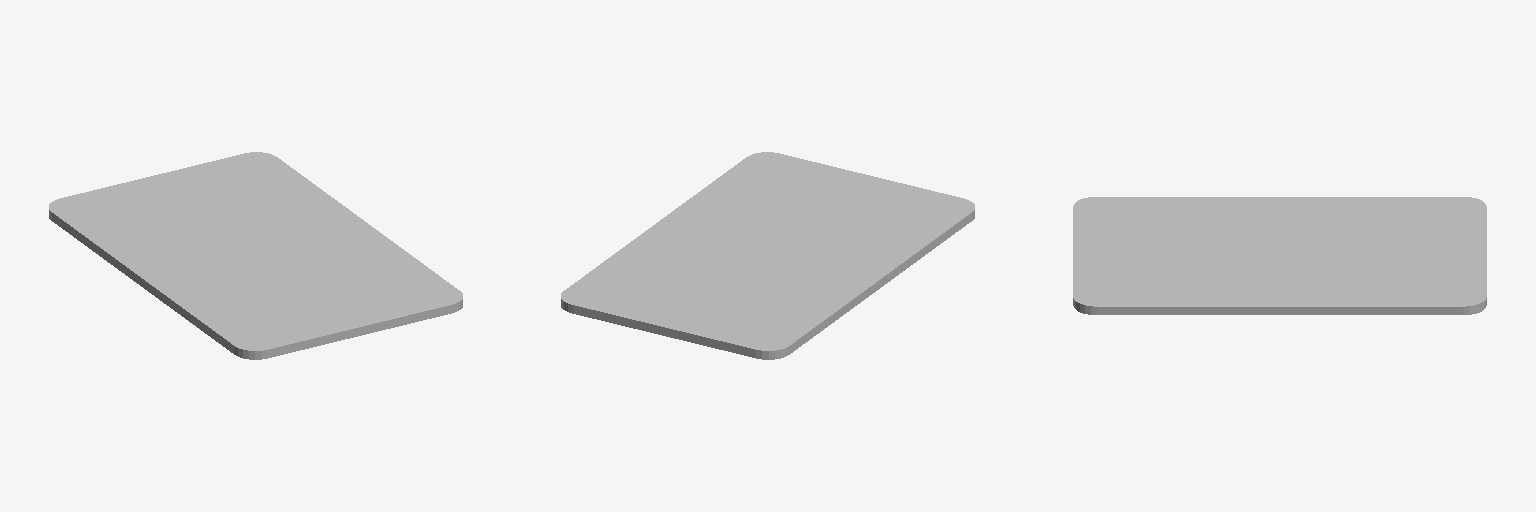
The model's file is Plastic ID card.obj.
The picture shows the model from 3 angles: view 1: azimuth 30°, elevation 25°; view 2: azimuth 150°, elevation 25°; view 3: azimuth 270°, elevation 25°; orthographic projection.
Parts seen in each view (by area): view 1: Solid1; view 2: Solid1; view 3: Solid1.
Part boxes in pixels (bbox=[...]): Solid1: bbox=[49, 152, 462, 359]; Solid1: bbox=[561, 152, 974, 359]; Solid1: bbox=[1073, 197, 1486, 314].
Size of the model in its own units: 2.12 by 0.0787 by 3.38.